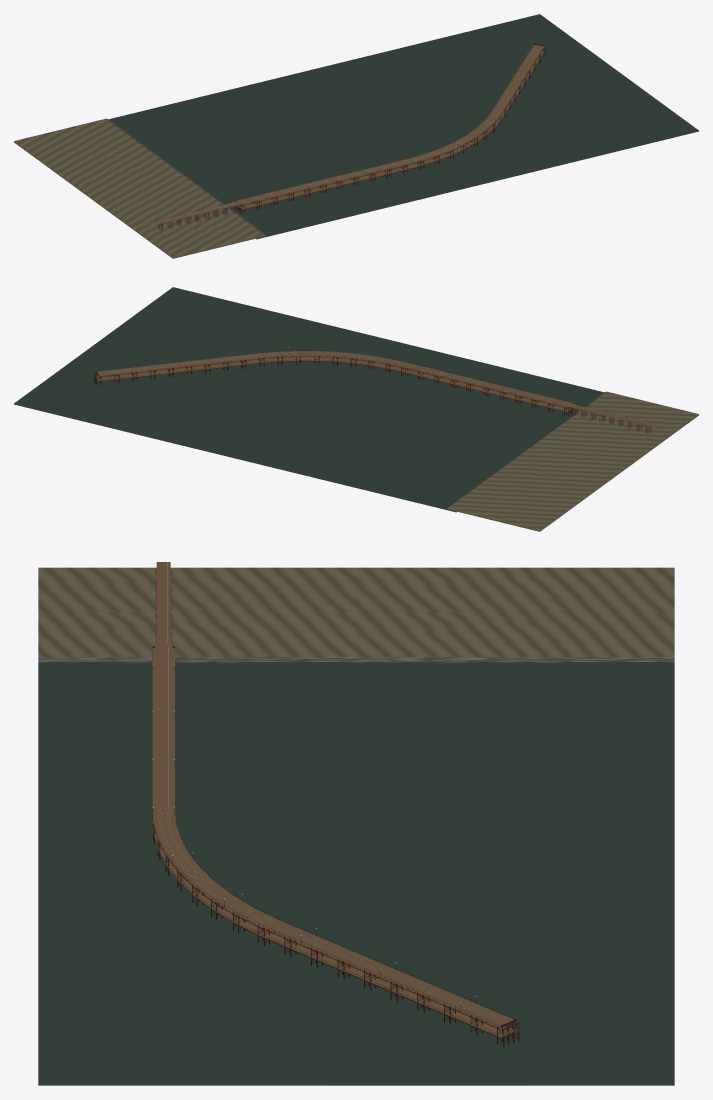
The model's file is muelle_tinto_huelva.glb.
The picture shows the model from 3 angles, top to bottom: view 1: azimuth 30°, elevation 25°; view 2: azimuth 150°, elevation 25°; view 3: azimuth 270°, elevation 25°; orthographic projection. The views are drawn at different scales.
Visible parts, largest first — view 1: MT_Ria_Agua, MT_Orilla_Marisma, Grupo_2_64piezas, Grupo_0_1049piezas, Grupo_3_146piezas, Grupo_6_128piezas, Grupo_4_792piezas; view 2: MT_Ria_Agua, MT_Orilla_Marisma, Grupo_2_64piezas, Grupo_0_1049piezas, Grupo_3_146piezas, Grupo_4_792piezas, Grupo_6_128piezas; view 3: MT_Ria_Agua, MT_Orilla_Marisma, Grupo_2_64piezas, MT_Orilla_Escollera, Grupo_0_1049piezas, Grupo_3_146piezas, Grupo_4_792piezas.
Part boxes in pixels (left/top/right/bottom): MT_Ria_Agua: left=109, top=14, right=698, bottom=239; MT_Orilla_Marisma: left=14, top=118, right=264, bottom=258; Grupo_2_64piezas: left=151, top=45, right=544, bottom=225; Grupo_0_1049piezas: left=235, top=44, right=545, bottom=213; Grupo_3_146piezas: left=151, top=48, right=536, bottom=224; Grupo_6_128piezas: left=157, top=45, right=541, bottom=231; Grupo_4_792piezas: left=202, top=44, right=543, bottom=212; MT_Ria_Agua: left=14, top=287, right=603, bottom=512; MT_Orilla_Marisma: left=448, top=391, right=698, bottom=531; Grupo_2_64piezas: left=96, top=351, right=658, bottom=427; Grupo_0_1049piezas: left=94, top=356, right=573, bottom=416; Grupo_3_146piezas: left=98, top=352, right=657, bottom=426; Grupo_4_792piezas: left=99, top=350, right=625, bottom=418; Grupo_6_128piezas: left=97, top=372, right=651, bottom=433; MT_Ria_Agua: left=38, top=662, right=674, bottom=1085; MT_Orilla_Marisma: left=38, top=567, right=674, bottom=657; Grupo_2_64piezas: left=152, top=562, right=516, bottom=1037; MT_Orilla_Escollera: left=38, top=657, right=674, bottom=662; Grupo_0_1049piezas: left=152, top=646, right=519, bottom=1047; Grupo_3_146piezas: left=158, top=562, right=508, bottom=1024; Grupo_4_792piezas: left=152, top=646, right=515, bottom=1035.
Size of the model in its own units: 3 by 0.0844 by 1.57.
Materials: 10 (3 with a texture image).
